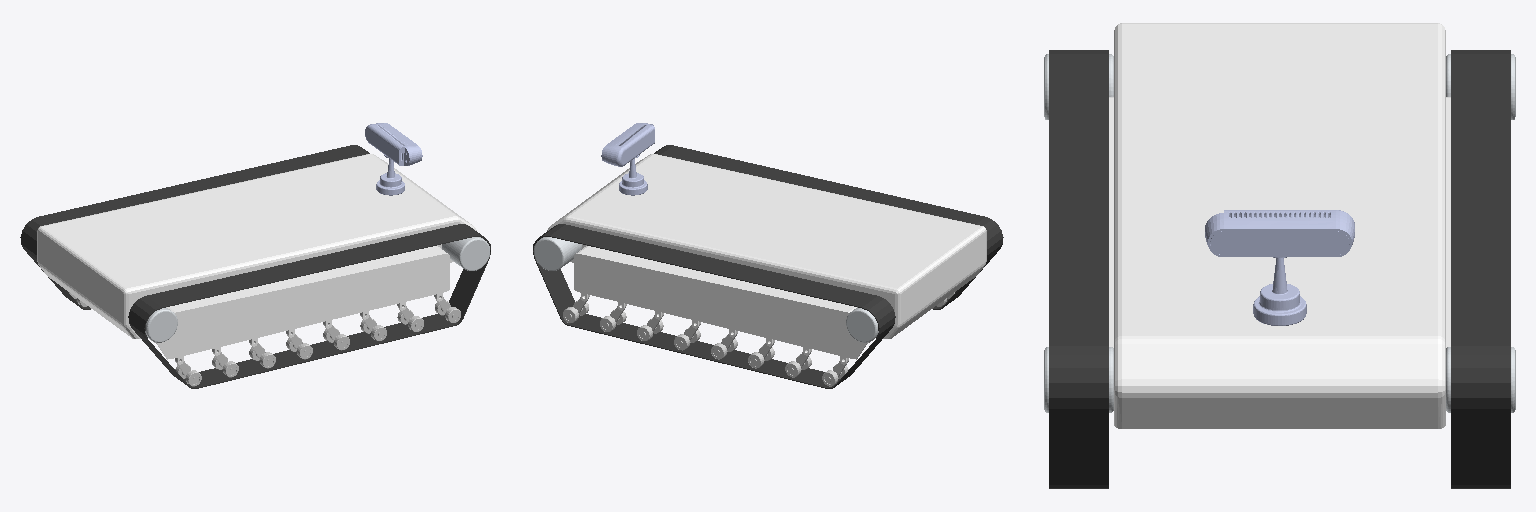
robot.urdf — track_cart:
<?xml version="1.0" encoding="utf-8"?>
<!-- This URDF was automatically created by SolidWorks to URDF Exporter! Originally created by [author] ([email redacted]) 
     Commit Version: 1.6.0-4-g7f85cfe  Build Version: 1.6.7995.38578
     For more information, please see http://wiki.ros.org/sw_urdf_exporter -->
<robot name="track_cart">
  <link name="base_link">
    <inertial>
      <origin xyz="-0.0094017 8.0353E-09 0.01613" rpy="0 0 0" />
      <mass value="10.442" />
      <inertia ixx="0.048567" ixy="-3.7869E-08" ixz="0.0021766" iyy="0.17194" iyz="8.5932E-10" izz="0.21447" />
    </inertial>
    <visual>
      <origin xyz="0 0 0" rpy="0 0 0" />
      <geometry>
        <mesh filename="package://robot_description/meshes/base_link.STL" />
      </geometry>
      <material name="">
        <color rgba="1 1 1 1" />
        <texture filename="package://robot_description/textures/Plastic011_1K_Color.jpg" />
      </material>
    </visual>
    <collision>
      <origin xyz="0 0 0" rpy="0 0 0" />
      <geometry>
        <mesh filename="package://robot_description/meshes/base_link.STL" />
      </geometry>
    </collision>
  </link>
  <link name="left_wheel_link">
    <inertial>
      <origin xyz="1.7347E-18 0.021 0" rpy="0 0 0" />
      <mass value="0.14088" />
      <inertia ixx="3.459E-05" ixy="1.356E-22" ixz="-3.6375E-37" iyy="2.8073E-05" iyz="-1.1977E-21" izz="3.459E-05" />
    </inertial>
    <visual>
      <origin xyz="0 0 0" rpy="0 0 0" />
      <geometry>
        <mesh filename="package://robot_description/meshes/left_wheel_link.STL" />
      </geometry>
      <material name="">
        <color rgba="0.89412 0.91373 0.92941 1" />
        <texture filename="package://robot_description/textures/Metal011_1K_Color.jpg" />
      </material>
    </visual>
    <collision>
      <origin xyz="0 0 0" rpy="0 0 0" />
      <geometry>
        <mesh filename="package://robot_description/meshes/left_wheel_link.STL" />
      </geometry>
    </collision>
  </link>
  <joint name="left_wheel_joint" type="fixed">
    <origin xyz="-0.203430162144383 0.0999999999999995 0.0188560646381767" rpy="0 0 0" />
    <parent link="base_link" />
    <child link="left_wheel_link" />
    <axis xyz="0 -1 0" />
  </joint>
  <link name="right_wheel_link">
    <inertial>
      <origin xyz="5.2042E-18 0.021 0" rpy="0 0 0" />
      <mass value="0.14088" />
      <inertia ixx="3.459E-05" ixy="-1.761E-22" ixz="-4.6703E-37" iyy="2.8073E-05" iyz="1.1977E-21" izz="3.459E-05" />
    </inertial>
    <visual>
      <origin xyz="0 0 0" rpy="0 0 0" />
      <geometry>
        <mesh filename="package://robot_description/meshes/right_wheel_link.STL" />
      </geometry>
      <material name="">
        <color rgba="0.89412 0.91373 0.92941 1" />
        <texture filename="package://robot_description/textures/Metal011_1K_Color.jpg" />
      </material>
    </visual>
    <collision>
      <origin xyz="0 0 0" rpy="0 0 0" />
      <geometry>
        <mesh filename="package://robot_description/meshes/right_wheel_link.STL" />
      </geometry>
    </collision>
  </link>
  <joint name="right_wheel_joint" type="fixed">
    <origin xyz="-0.203430162144383 -0.142000000000001 0.0188560646381767" rpy="0 0 0" />
    <parent link="base_link" />
    <child link="right_wheel_link" />
    <axis xyz="0 1 0" />
  </joint>
  <link name="camera_link">
    <inertial>
      <origin xyz="-0.012036 0.001259 -0.023045" rpy="0 0 0" />
      <mass value="0.022518" />
      <inertia ixx="1.0002E-05" ixy="1.8784E-07" ixz="-2.7793E-08" iyy="2.5528E-06" iyz="-7.338E-09" izz="8.95E-06" />
    </inertial>
    <visual>
      <origin xyz="0 0 0" rpy="0 0 0" />
      <geometry>
        <mesh filename="package://robot_description/meshes/camera_link.STL" />
      </geometry>
      <material name="">
        <color rgba="0.79216 0.81961 0.93333 1" />
        <texture filename="package://robot_description/textures/Metal009_1K_Color.jpg" />
      </material>
    </visual>
    <collision>
      <origin xyz="0 0 0" rpy="0 0 0" />
      <geometry>
        <mesh filename="package://robot_description/meshes/camera_link.STL" />
      </geometry>
    </collision>
  </link>
  <joint name="camera_joint" type="fixed">
    <origin xyz="0.187658698280417 -0.0010000000000005 0.0983819003855137" rpy="0 0 0" />
    <parent link="base_link" />
    <child link="camera_link" />
    <axis xyz="0 0 0" />
  </joint>
  <link name="support_wheel_link">
    <inertial>
      <origin xyz="0.0068516 -5.5511E-16 -0.054115" rpy="0 0 0" />
      <mass value="0.24393" />
      <inertia ixx="4.9711E-05" ixy="-9.8842E-22" ixz="1.019E-05" iyy="3.5616E-05" iyz="-7.4531E-21" izz="2.995E-05" />
    </inertial>
    <visual>
      <origin xyz="0 0 0" rpy="0 0 0" />
      <geometry>
        <mesh filename="package://robot_description/meshes/support_wheel_link.STL" />
      </geometry>
      <material name="">
        <color rgba="0.85098 0.85098 0.85098 1" />
        <texture filename="package://robot_description/textures/Metal032_1K_Color.jpg" />
      </material>
    </visual>
    <collision>
      <origin xyz="0 0 0" rpy="0 0 0" />
      <geometry>
        <mesh filename="package://robot_description/meshes/support_wheel_link.STL" />
      </geometry>
    </collision>
  </link>
  <joint name="support_wheel_joint" type="fixed">
    <origin xyz="0 0 0" rpy="0 0 0" />
    <parent link="base_link" />
    <child link="support_wheel_link" />
    <axis xyz="0 0 0" />
  </joint>
  <link name="big_support_wheel_link">
    <inertial>
      <origin xyz="0.20115 -5.5511E-16 0.012939" rpy="0 0 0" />
      <mass value="0.28176" />
      <inertia ixx="6.9181E-05" ixy="-7.9452E-22" ixz="1.7078E-53" iyy="5.6146E-05" iyz="1.044E-52" izz="6.9181E-05" />
    </inertial>
    <visual>
      <origin xyz="0 0 0" rpy="0 0 0" />
      <geometry>
        <mesh filename="package://robot_description/meshes/big_support_wheel_link.STL" />
      </geometry>
      <material name="">
        <color rgba="0.89412 0.91373 0.92941 1" />
        <texture filename="package://robot_description/textures/Metal011_1K_Color.jpg" />
      </material>
    </visual>
    <collision>
      <origin xyz="0 0 0" rpy="0 0 0" />
      <geometry>
        <mesh filename="package://robot_description/meshes/big_support_wheel_link.STL" />
      </geometry>
    </collision>
  </link>
  <joint name="big_support_wheel_joint" type="fixed">
    <origin xyz="0 0 0" rpy="0 0 0" />
    <parent link="base_link" />
    <child link="big_support_wheel_link" />
    <axis xyz="0 0 0" />
  </joint>
  <link name="track_link">
    <inertial>
      <origin xyz="0.0001348 -1.1102E-15 -0.011854" rpy="0 0 0" />
      <mass value="0.09681" />
      <inertia ixx="0.00024241" ixy="-6.3704E-20" ixz="3.5167E-05" iyy="0.0021604" iyz="1.7284E-19" izz="0.0019389" />
    </inertial>
    <visual>
      <origin xyz="0 0 0" rpy="0 0 0" />
      <geometry>
        <mesh filename="package://robot_description/meshes/track_link.STL" />
      </geometry>
      <material name="">
        <color rgba="0.29804 0.29804 0.29804 1" />
        <texture filename="package://robot_description/textures/Plastic012A_1K_Color.jpg" />
      </material>
    </visual>
    <collision>
      <origin xyz="0 0 0" rpy="0 0 0" />
      <geometry>
        <mesh filename="package://robot_description/meshes/track_link.STL" />
      </geometry>
    </collision>
  </link>
  <joint name="track_joint" type="fixed">
    <origin xyz="0 0 0" rpy="0 0 0" />
    <parent link="base_link" />
    <child link="track_link" />
    <axis xyz="0 0 0" />
  </joint>
</robot>

--- Render facts (derived) ---
3 views of the same robot in one strip: view 1: azimuth 30°, elevation 25°; view 2: azimuth 150°, elevation 25°; view 3: azimuth 270°, elevation 25° (orthographic).
Model track_cart with 7 links and 6 joints (6 fixed), rooted at base_link, posed every joint at zero.
Links seen in each view (by area): view 1: base_link, track_link, support_wheel_link, camera_link, big_support_wheel_link, right_wheel_link; view 2: base_link, track_link, support_wheel_link, camera_link, big_support_wheel_link, left_wheel_link; view 3: base_link, track_link, camera_link, big_support_wheel_link, left_wheel_link, right_wheel_link.
Boxes of the visible links, x1,y1,x2,y2 form: base_link: [37, 154, 476, 364]; track_link: [20, 145, 490, 388]; support_wheel_link: [69, 292, 460, 386]; camera_link: [365, 123, 422, 195]; big_support_wheel_link: [442, 237, 489, 270]; right_wheel_link: [145, 307, 177, 342]; base_link: [547, 154, 986, 364]; track_link: [533, 145, 1003, 388]; support_wheel_link: [563, 292, 954, 386]; camera_link: [601, 123, 654, 195]; big_support_wheel_link: [534, 237, 581, 270]; left_wheel_link: [846, 307, 878, 342]; base_link: [1109, 23, 1450, 428]; track_link: [1049, 50, 1510, 488]; camera_link: [1205, 210, 1354, 325]; big_support_wheel_link: [1044, 347, 1515, 412]; left_wheel_link: [1446, 54, 1515, 119]; right_wheel_link: [1044, 54, 1113, 119].
Size in the robot's own frame: 0.458 by 0.284 by 0.1803 metres.
Meshes: 7 distinct files referenced, 7 mesh visuals loaded (7 binary STL).